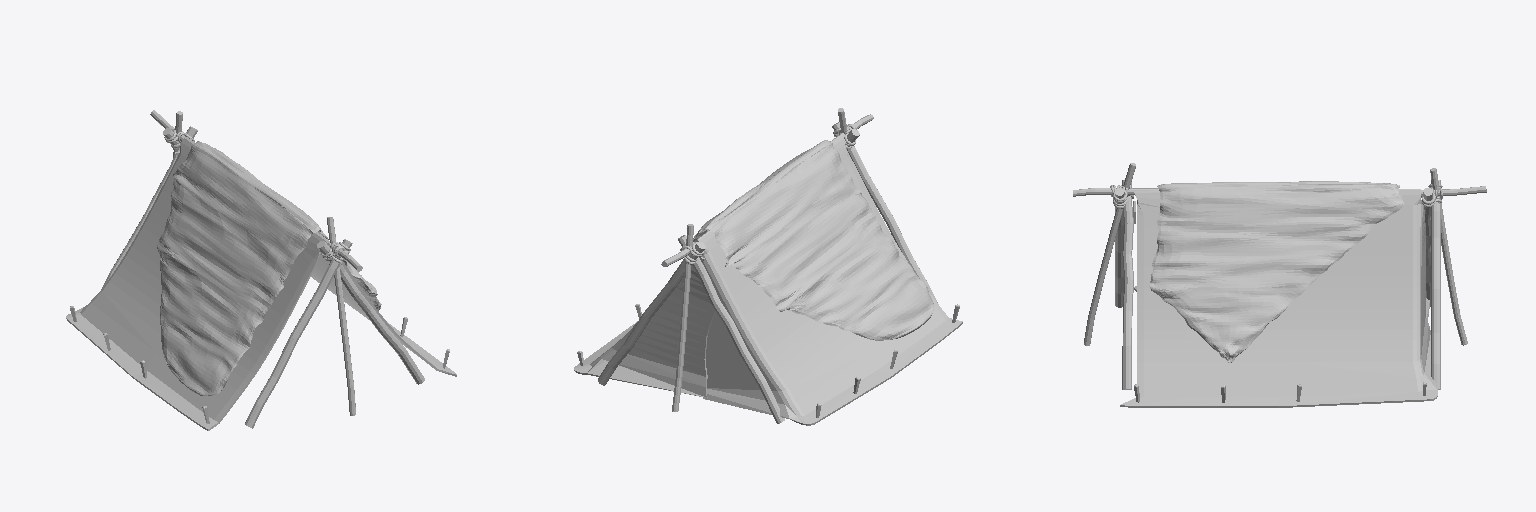
The model's file is lowpoly_viking_tent_001.obj.
The picture shows the model from 3 angles: view 1: azimuth 30°, elevation 25°; view 2: azimuth 150°, elevation 25°; view 3: azimuth 270°, elevation 25°; orthographic projection.
Visible parts, largest first — view 1: Plane.001, Cylinder.024, Cylinder.006, Cylinder.007, Cylinder.001, Cylinder.004; view 2: Cylinder.024, Plane.001, Cylinder.004, Cylinder.005, Cylinder.006, Cylinder.002; view 3: Cylinder.024, Plane.001, Cylinder.007, Cylinder.005, Cylinder.001, Cylinder.002, Cylinder.006, Cylinder.008, Cylinder.004.
Part boxes in pixels (x1,y1,x2,y2): Plane.001: (157,141,381,395); Cylinder.024: (66,137,456,430); Cylinder.006: (245,239,352,428); Cylinder.007: (317,241,424,384); Cylinder.001: (327,217,355,415); Cylinder.004: (101,126,197,289); Cylinder.024: (574,135,962,425); Plane.001: (693,140,933,340); Cylinder.004: (678,235,784,423); Cylinder.005: (598,242,705,385); Cylinder.006: (832,122,937,302); Cylinder.002: (672,224,693,411); Cylinder.024: (1120,188,1437,407); Plane.001: (1149,181,1403,362); Cylinder.007: (1122,180,1133,389); Cylinder.005: (1431,180,1440,389); Cylinder.001: (1084,163,1135,345); Cylinder.002: (1430,168,1467,345); Cylinder.006: (1115,188,1124,307); Cylinder.008: (1073,186,1486,196); Cylinder.004: (1423,188,1432,306).
Bounding box in the file's own units: 6.16 × 4.42 × 8.92.